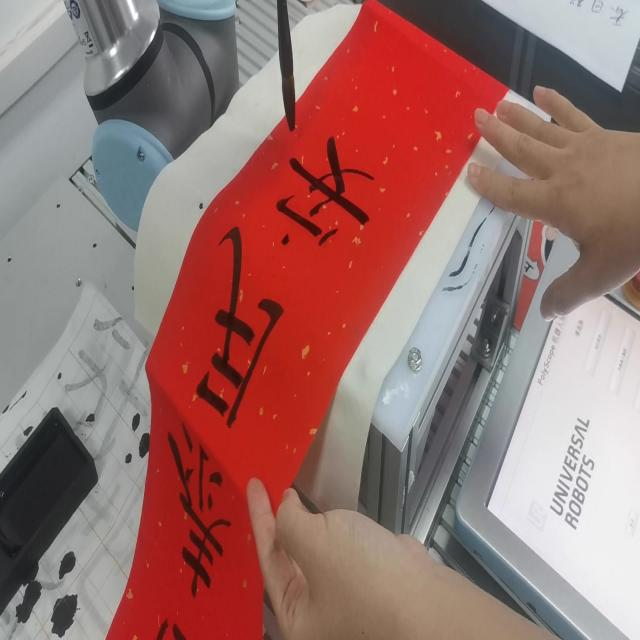head: (278, 79, 300, 135)
inkstone: (0, 405, 100, 620)
